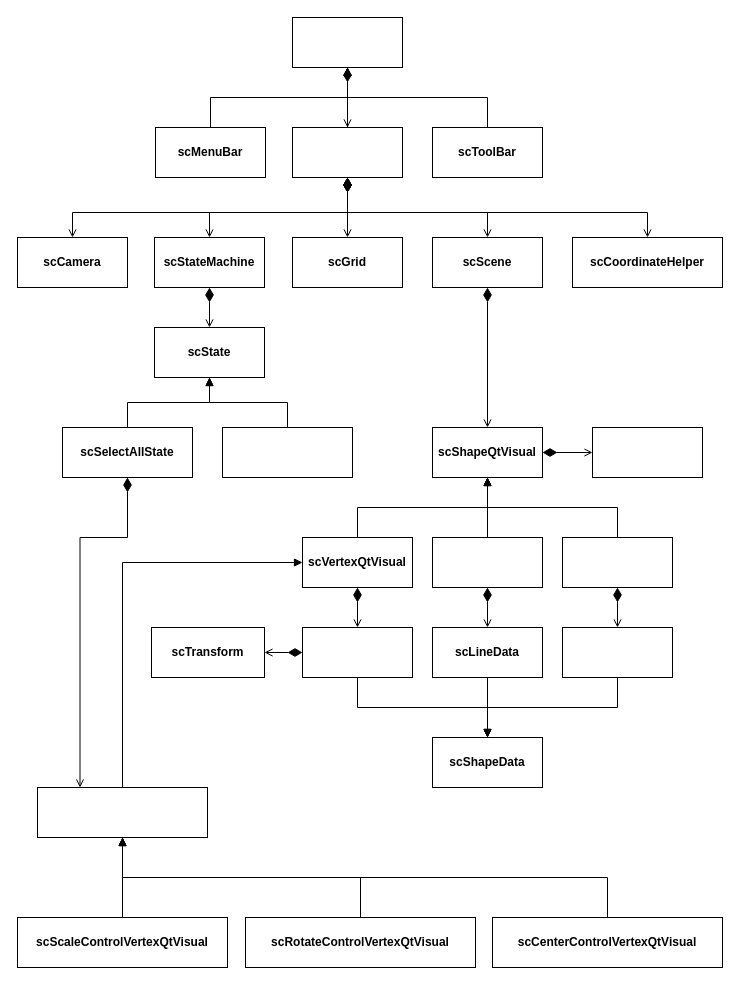
This 740x985 diagram has some shape labels left out. The centre of each missing label's shape, as x and y in pixels:
"scControlVertexQtVisual" belongs at (122,812).
"scDrawLineState" belongs at (287,452).
"scFaceData" belongs at (617,652).
"scFaceQtVisual" belongs at (617,562).
"scLineQtVisual" belongs at (487,562).
"scMainWindow" belongs at (347,42).
"scShapeID" belongs at (647,452).
"scVertexData" belongs at (357,652).
"scViewport" belongs at (347,152).
